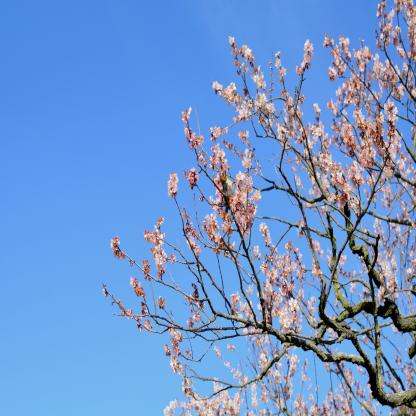Ume: (102, 0, 416, 416)
